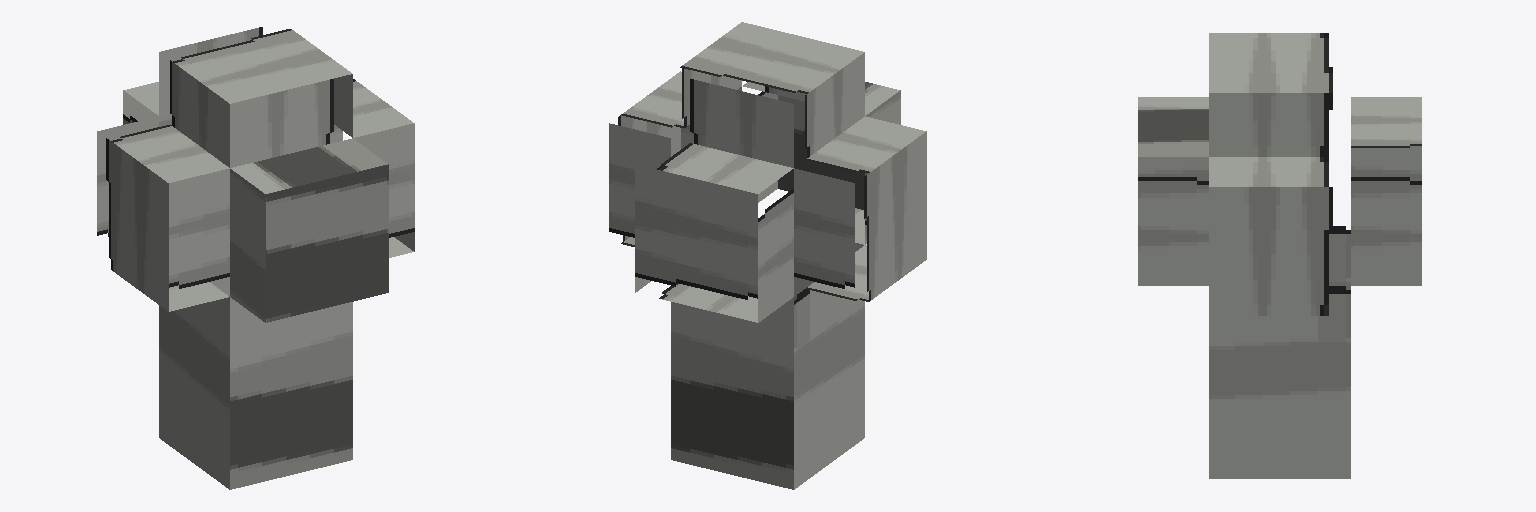
3 views of the same model, side by side, from view 1: azimuth 30°, elevation 25°; view 2: azimuth 150°, elevation 25°; view 3: azimuth 270°, elevation 25° (orthographic).
Visible parts, largest first — view 1: Model; view 2: Model; view 3: Model.
Part boxes in pixels (left/top/right/bottom): Model: left=97, top=27, right=414, bottom=489; Model: left=609, top=22, right=926, bottom=489; Model: left=1138, top=33, right=1421, bottom=478.
Size of the model in its own units: 21.33 by 32 by 21.33.
1 materials, 1 textured.